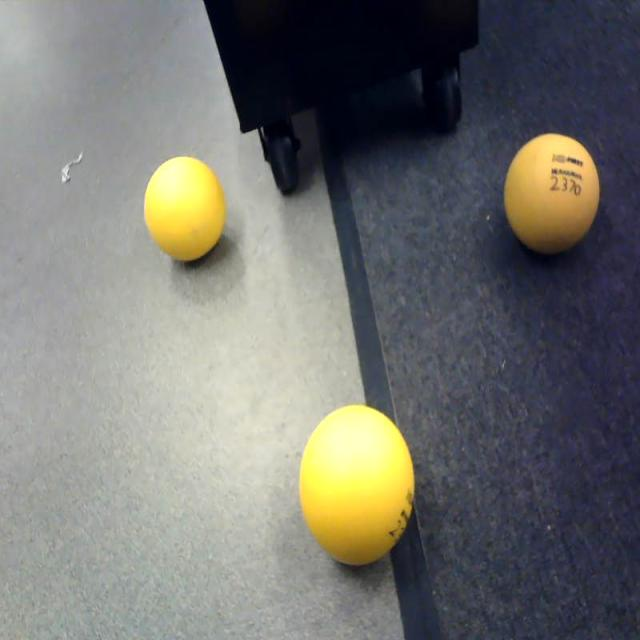Fuel: (299, 404, 415, 566), (504, 134, 600, 255), (144, 156, 226, 261)
